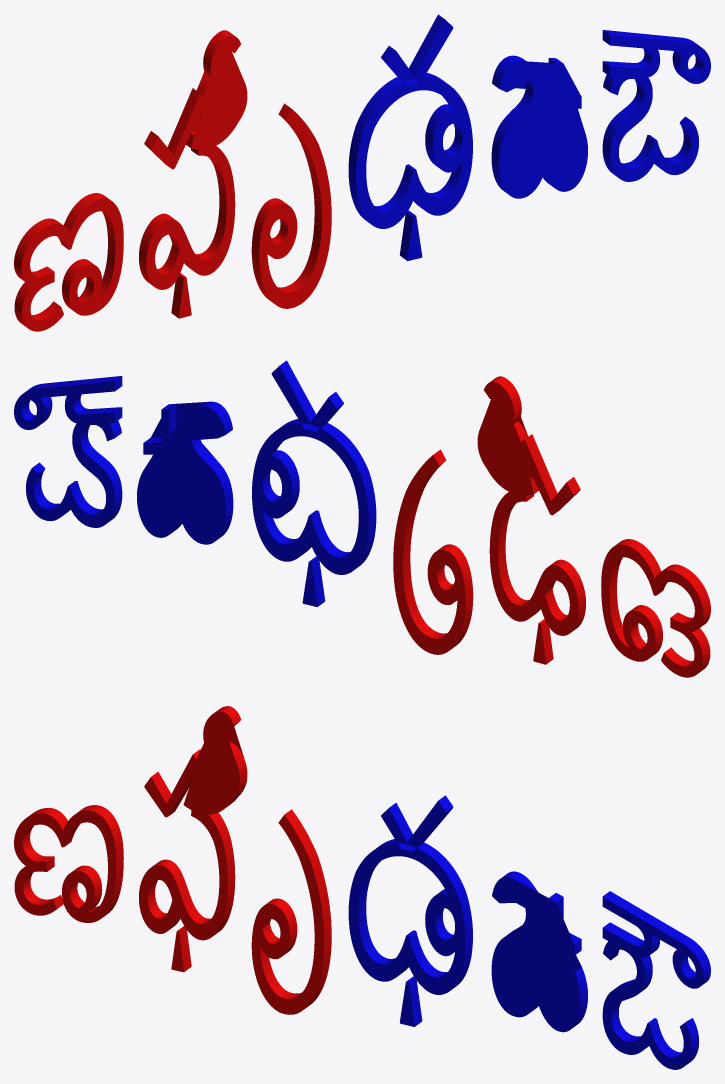
Rendered from Text_sign_21.fbx.
3 renders of one model, top to bottom at view 1: azimuth 30°, elevation 25°; view 2: azimuth 150°, elevation 25°; view 3: azimuth 330°, elevation 25°, orthographic.
Visible parts, largest first — view 1: Text_sign_21; view 2: Text_sign_21; view 3: Text_sign_21.
Boxes of the visible parts, x1,y1,x2,y2 form: Text_sign_21: (14,14,710,331); Text_sign_21: (14,360,710,677); Text_sign_21: (14,706,710,1069).
Size of the model in its own units: 135 by 53.81 by 2.52.
